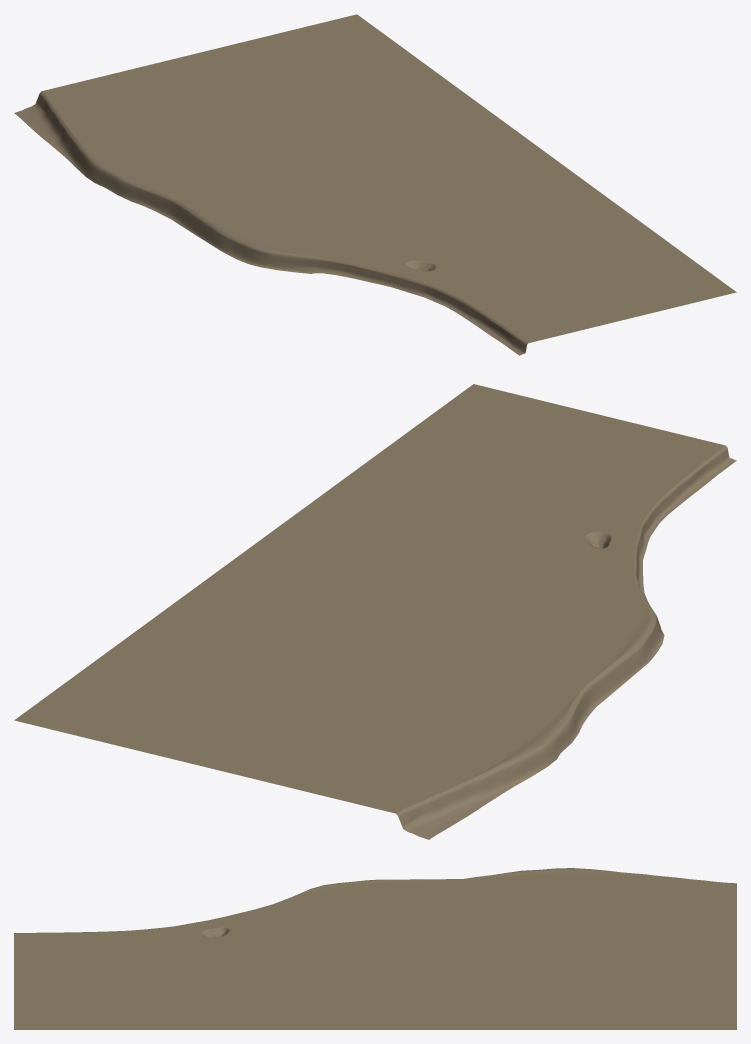
File: ground2.fbx
The picture shows the model from 3 angles, top to bottom: view 1: azimuth 30°, elevation 25°; view 2: azimuth 150°, elevation 25°; view 3: azimuth 270°, elevation 25°; orthographic projection. The views are drawn at different scales.
Parts seen in each view (by area): view 1: polySurface1; view 2: polySurface1; view 3: polySurface1.
Boxes of the visible parts, x1,y1,x2,y2 form: polySurface1: (14,14,736,355); polySurface1: (14,384,736,839); polySurface1: (14,868,736,1029).
Size of the model in its own units: 4363 by 191 by 8071.
